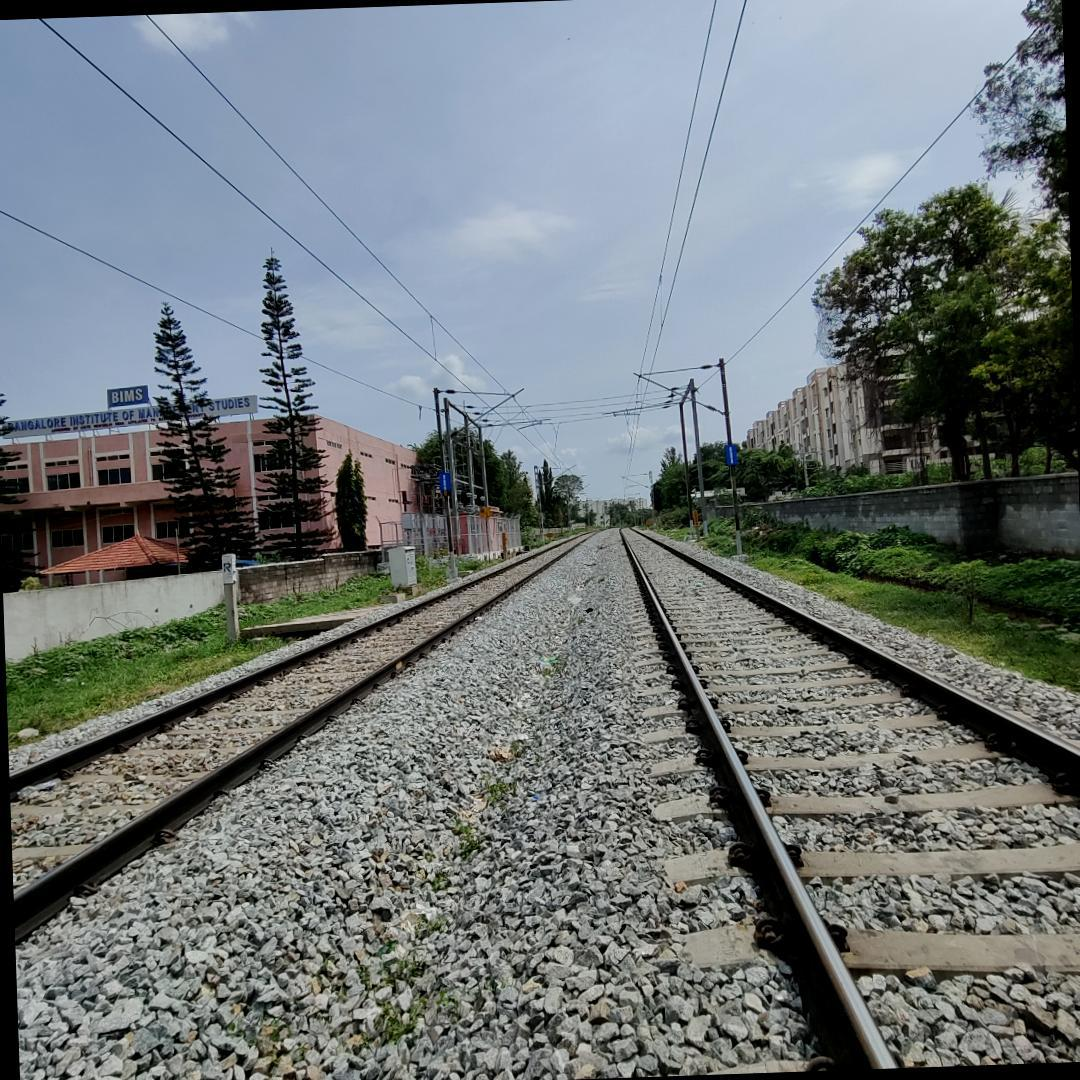track: (8, 536, 602, 999), (607, 520, 1080, 1074)
